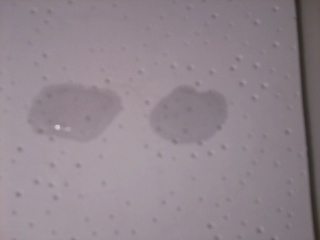Water_detected: (44, 90, 105, 136), (155, 96, 213, 135)
